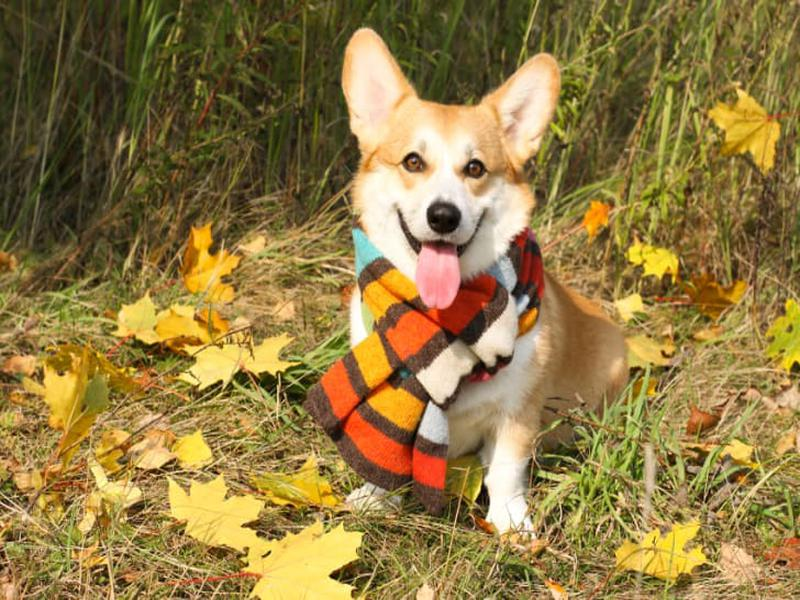corgi: (335, 25, 567, 314)
